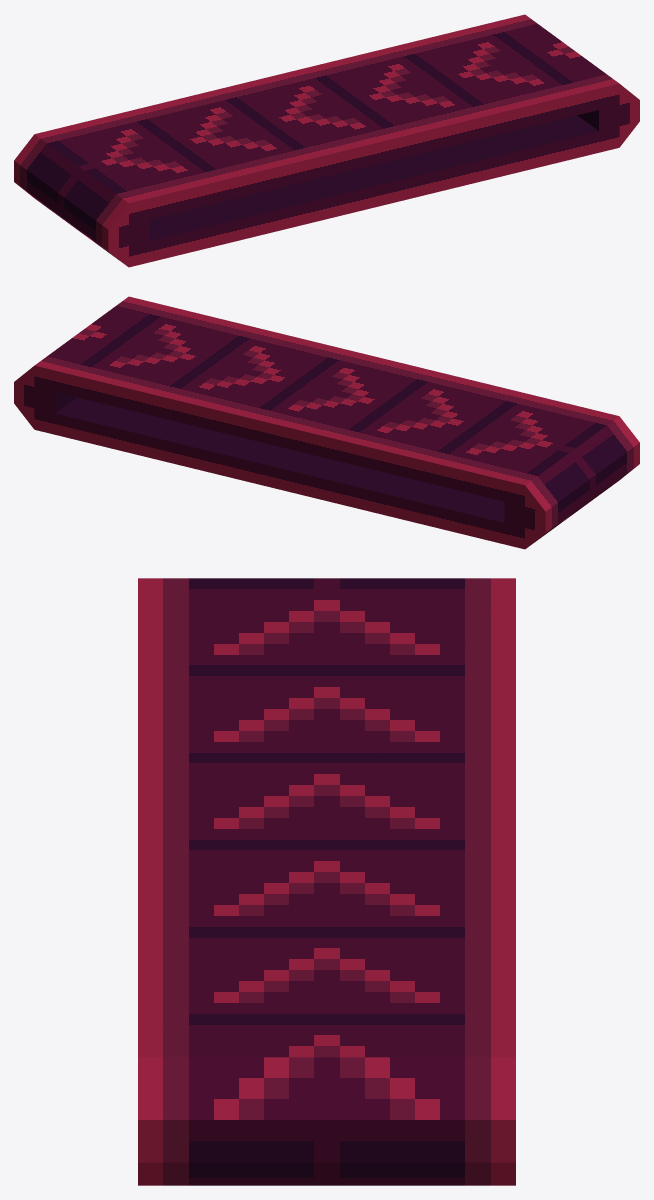
The model's file is Esteira.glb.
The picture shows the model from 3 angles, top to bottom: view 1: azimuth 30°, elevation 25°; view 2: azimuth 150°, elevation 25°; view 3: azimuth 270°, elevation 25°; orthographic projection. The views are drawn at different scales.
Parts seen in each view (by area): view 1: Esteira; view 2: Esteira; view 3: Esteira.
Part boxes in pixels (left/top/right/bottom): Esteira: left=14, top=14, right=639, bottom=267; Esteira: left=14, top=296, right=639, bottom=549; Esteira: left=138, top=578, right=515, bottom=1185.
Size of the model in its own units: 5.2 by 0.6 by 1.6.
Materials: 1 (1 with a texture image).
